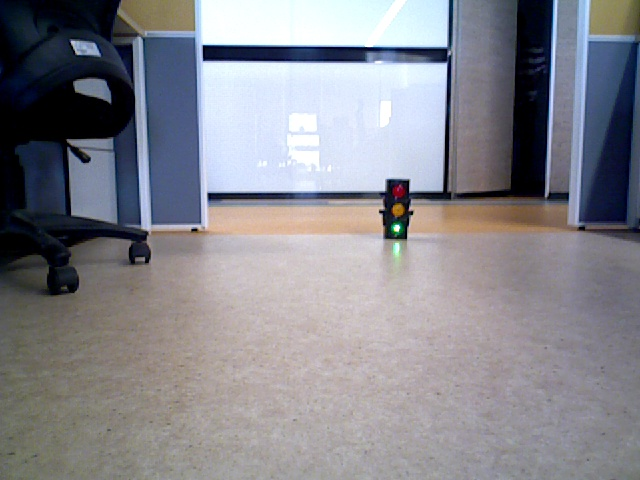green: (386, 176, 409, 236)
